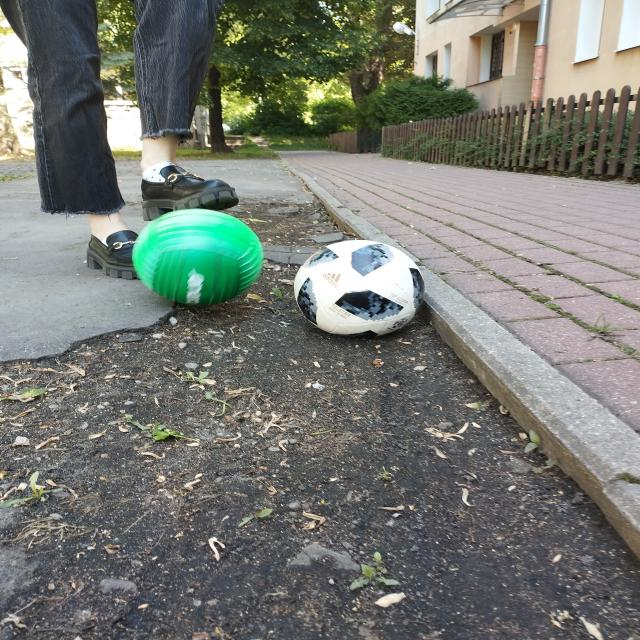nozna: (294, 240, 425, 338)
zielona: (132, 209, 264, 305)
